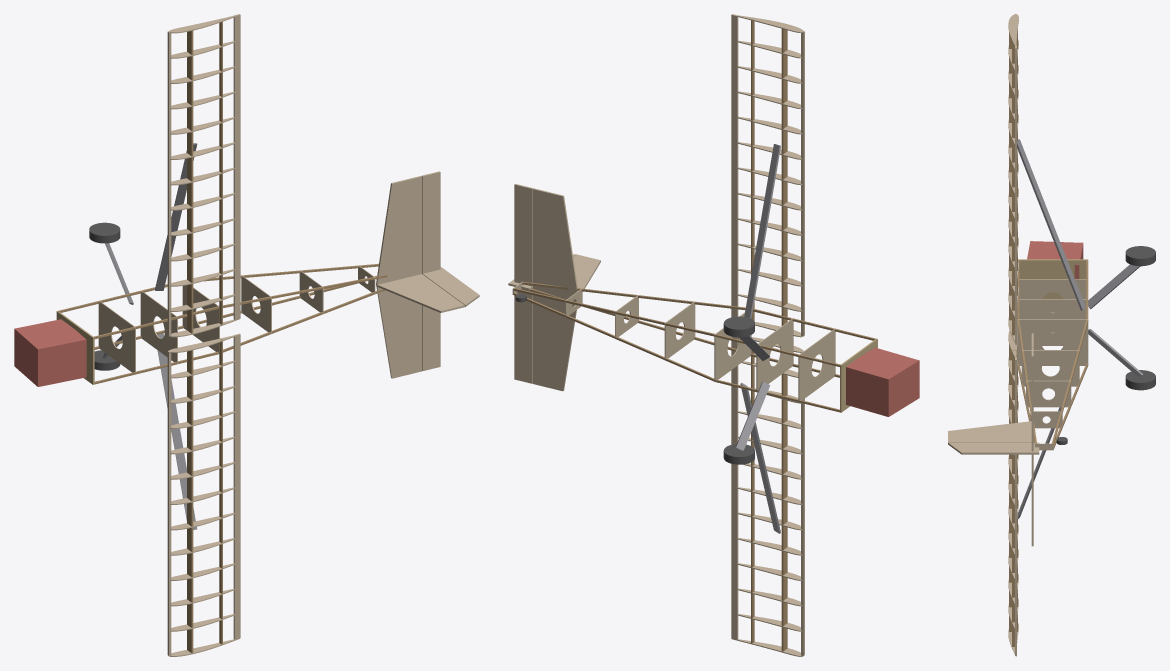
File: pc6_porter_kit.glb
The picture shows the model from 3 angles, left to right: view 1: azimuth 30°, elevation 25°; view 2: azimuth 150°, elevation 25°; view 3: azimuth 270°, elevation 25°; orthographic projection. The views are drawn at different scales.
Parts seen in each view (by area): view 1: tail/stabilizer, cowl/cowl, tail/elevator, wing_L/te_strip_L, wing_R/te_strip_R, wing_R/main_spar_R, wing_L/main_spar_L, tail/fin, fuselage/former_F2, wing_R/le_strip_R, wing_L/le_strip_L, fuselage/former_F3 (+8 smaller); view 2: tail/stabilizer, cowl/cowl, tail/elevator, wing_R/te_strip_R, wing_L/te_strip_L, wing_R/main_spar_R, wing_L/main_spar_L, fuselage/former_F2, fuselage/former_F3, struts/strut_R, wing_R/le_strip_R, fuselage/former_F5 (+10 smaller); view 3: fuselage/former_F4, fuselage/former_F5, fuselage/former_F3, tail/fin, fuselage/former_F1, fuselage/former_F2, struts/strut_R, tail/rudder, fuselage/former_F6, cowl/cowl, wing_R/rear_spar_R, wing_R/main_spar_R (+13 smaller).
Part boxes in pixels (left/top/right/bottom): tail/stabilizer: left=376, top=176, right=421, bottom=378; cowl/cowl: left=14, top=319, right=86, bottom=386; tail/elevator: left=422, top=171, right=440, bottom=370; wing_L/te_strip_L: left=233, top=333, right=240, bottom=639; wing_R/te_strip_R: left=233, top=14, right=240, bottom=319; wing_R/main_spar_R: left=187, top=27, right=193, bottom=333; wing_L/main_spar_L: left=187, top=350, right=193, bottom=653; tail/fin: left=376, top=274, right=464, bottom=312; fuselage/former_F2: left=98, top=301, right=135, bottom=374; wing_R/le_strip_R: left=167, top=31, right=171, bottom=336; wing_L/le_strip_L: left=167, top=351, right=171, bottom=655; fuselage/former_F3: left=140, top=290, right=177, bottom=364; tail/stabilizer: left=533, top=188, right=577, bottom=391; cowl/cowl: left=846, top=347, right=919, bottom=416; tail/elevator: left=514, top=184, right=533, bottom=383; wing_R/te_strip_R: left=731, top=14, right=738, bottom=317; wing_L/te_strip_L: left=731, top=336, right=738, bottom=639; wing_R/main_spar_R: left=781, top=24, right=787, bottom=325; wing_L/main_spar_L: left=781, top=374, right=787, bottom=651; fuselage/former_F2: left=798, top=328, right=835, bottom=401; fuselage/former_F3: left=756, top=318, right=793, bottom=391; struts/strut_R: left=740, top=144, right=780, bottom=340; wing_R/le_strip_R: left=801, top=31, right=804, bottom=336; fuselage/former_F5: left=664, top=301, right=695, bottom=360; fuselage/former_F4: left=1017, top=319, right=1088, bottom=365; fuselage/former_F5: left=1021, top=350, right=1079, bottom=386; fuselage/former_F3: left=1019, top=299, right=1086, bottom=345; tail/fin: left=948, top=421, right=1031, bottom=442; fuselage/former_F1: left=1018, top=259, right=1088, bottom=299; fuselage/former_F2: left=1019, top=279, right=1086, bottom=319; struts/strut_R: left=1017, top=139, right=1085, bottom=310; tail/rudder: left=948, top=442, right=1039, bottom=454; fuselage/former_F6: left=1026, top=380, right=1071, bottom=407; cowl/cowl: left=1027, top=241, right=1083, bottom=279; wing_R/rear_spar_R: left=1012, top=41, right=1014, bottom=335; wing_R/main_spar_R: left=1009, top=23, right=1017, bottom=320.
Size of the model in its own units: 1353 by 1987 by 615.
